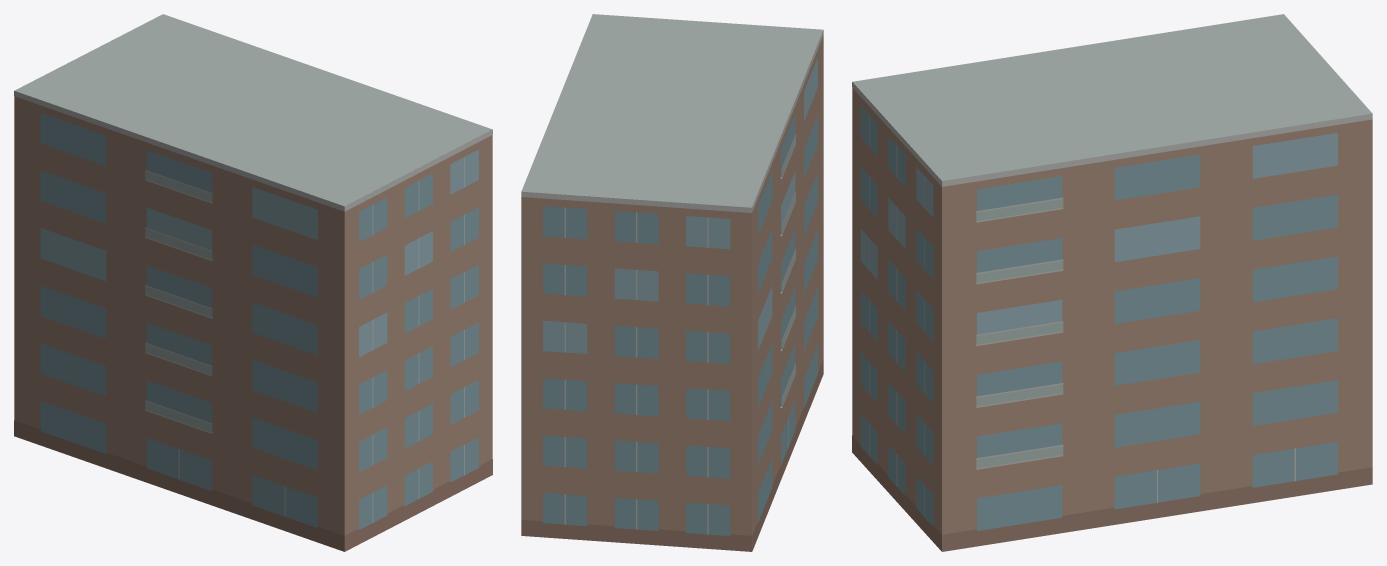
Rendered from survey-upis-32538638.glb.
3 renders of one model, left to right at view 1: azimuth 30°, elevation 25°; view 2: azimuth 150°, elevation 25°; view 3: azimuth 270°, elevation 25°, orthographic. The views are drawn at different scales.
Parts seen in each view (by area): view 1: survey-upis-32538638.tmp; view 2: survey-upis-32538638.tmp; view 3: survey-upis-32538638.tmp.
Boxes of the visible parts, <box> form: survey-upis-32538638.tmp: <box>14,14,492,551</box>; survey-upis-32538638.tmp: <box>521,14,823,551</box>; survey-upis-32538638.tmp: <box>852,14,1372,551</box>.
Size of the model in its own units: 15.29 by 15.8 by 20.12.
